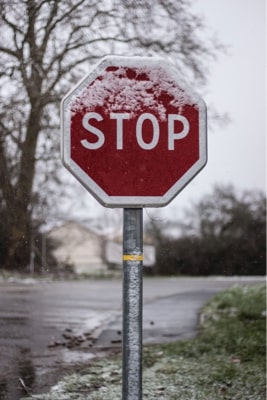StopSign: (59, 53, 210, 209)
